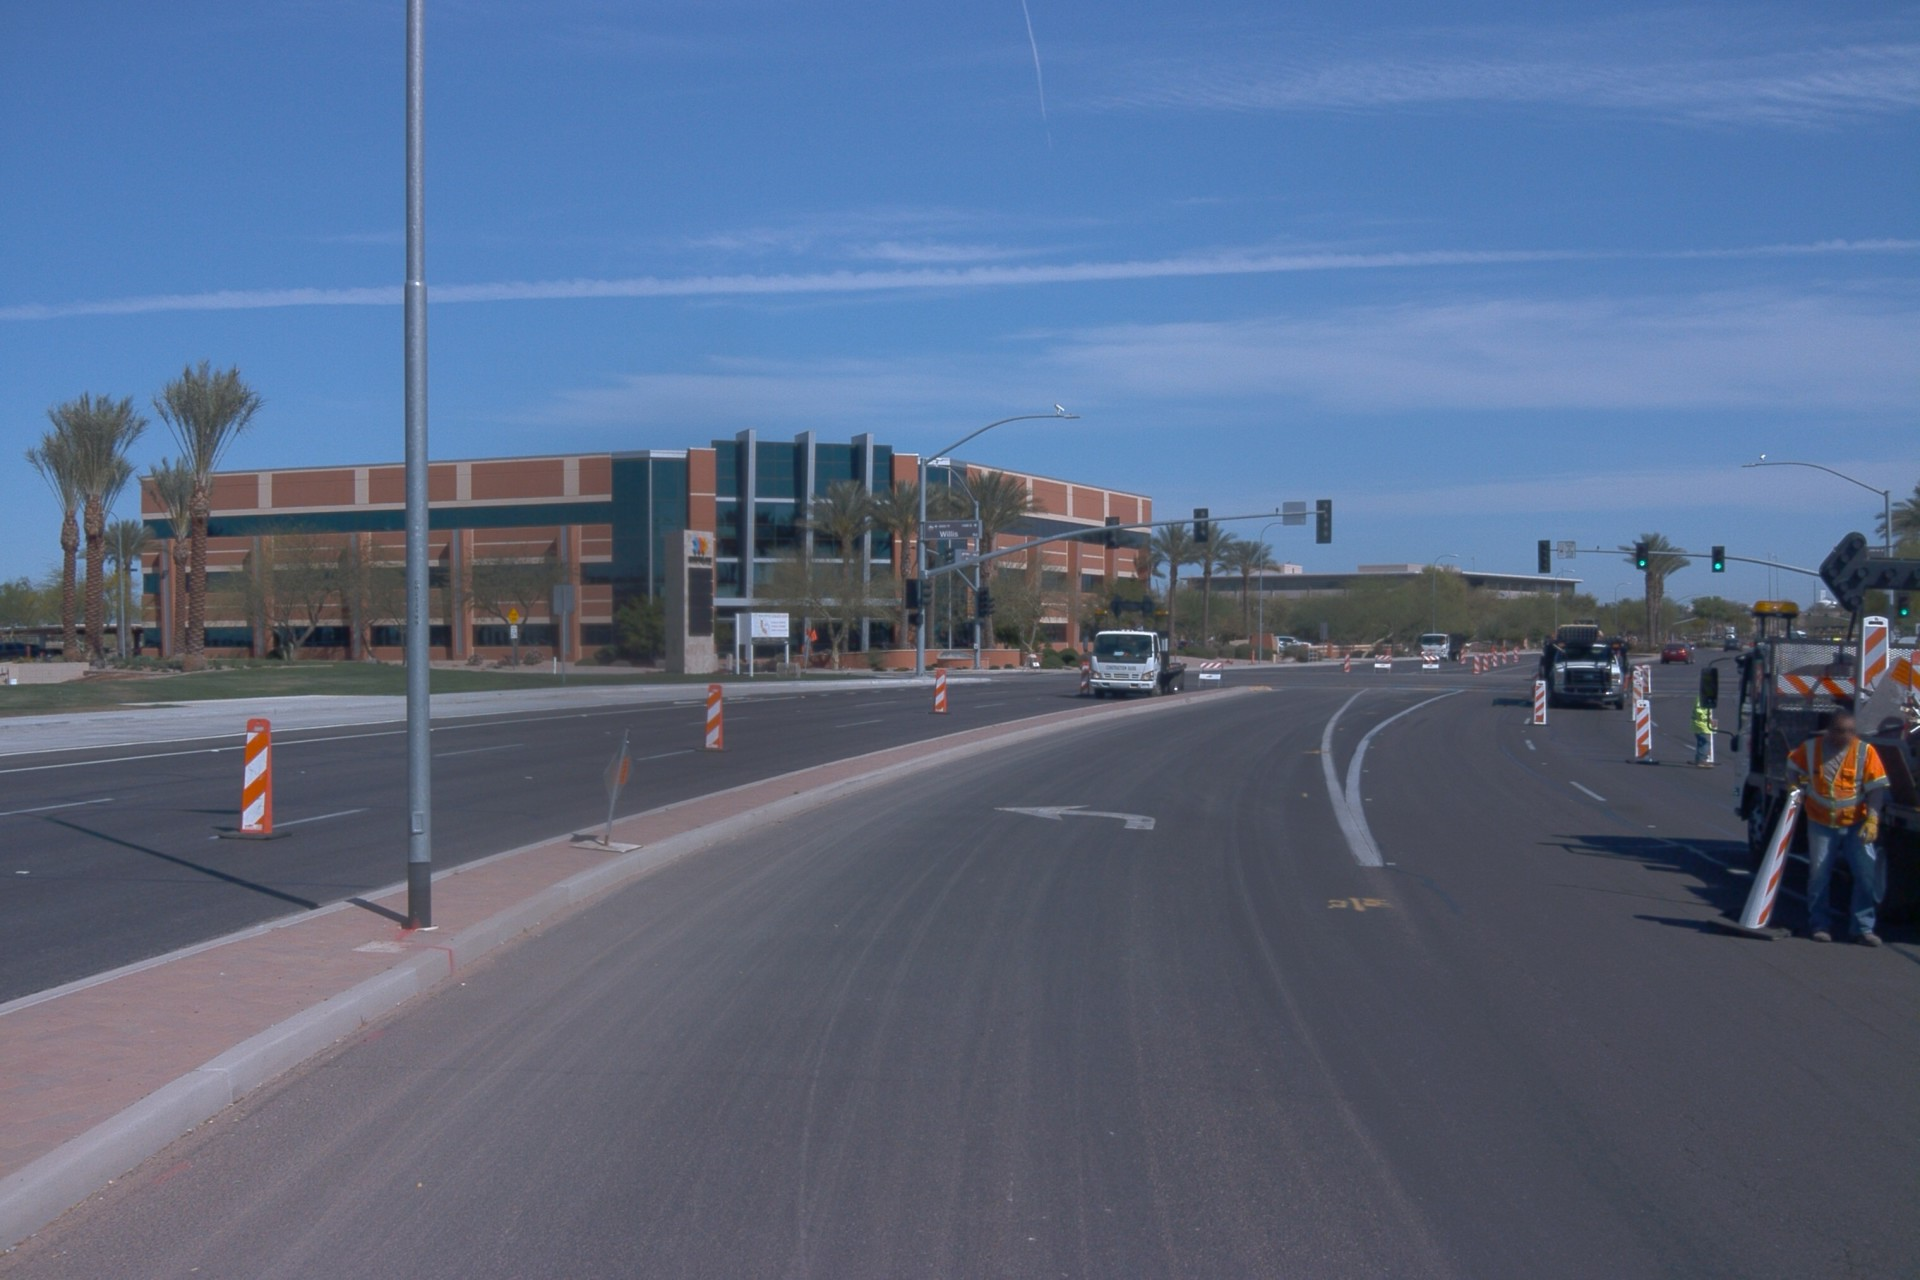TYPE_PEDESTRIAN: (1785, 704, 1892, 949), (1692, 691, 1721, 770)
TYPE_VEHICLE: (1696, 521, 1920, 929), (1531, 617, 1632, 714), (1086, 623, 1189, 701), (1419, 631, 1470, 663), (1660, 639, 1699, 670), (1273, 635, 1318, 653), (1721, 633, 1748, 652), (1724, 626, 1738, 645), (1520, 660, 1529, 679)
